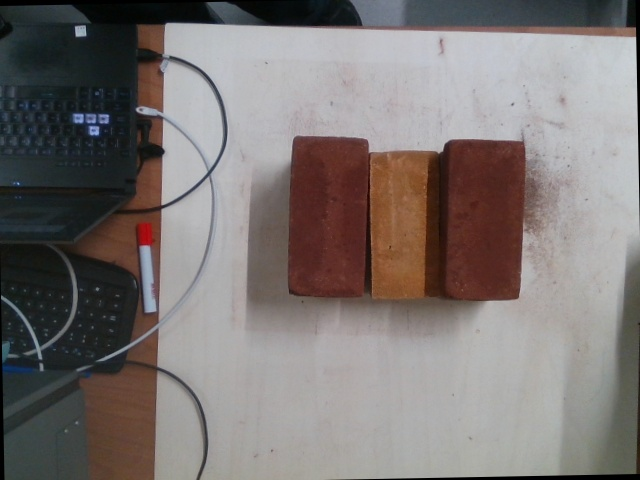brick: (449, 140, 525, 298), (289, 138, 365, 296), (369, 153, 442, 296)
